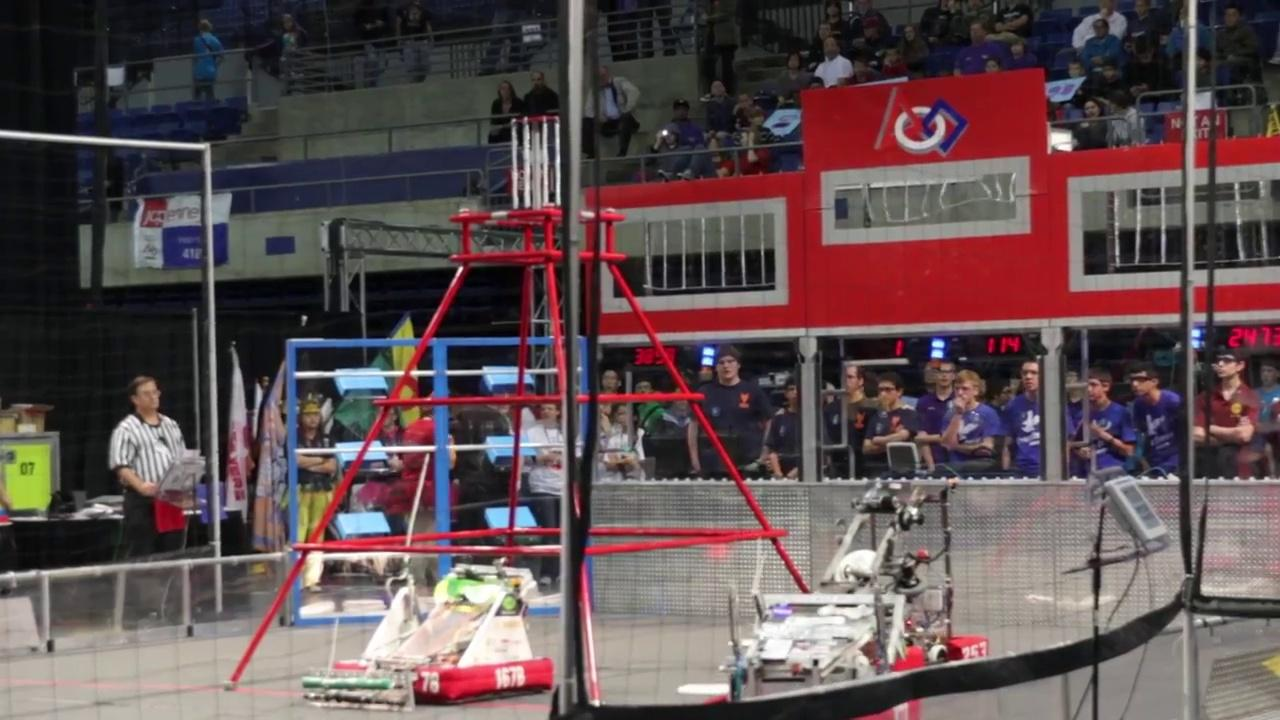robot: (795, 477, 991, 671), (303, 569, 557, 705)
